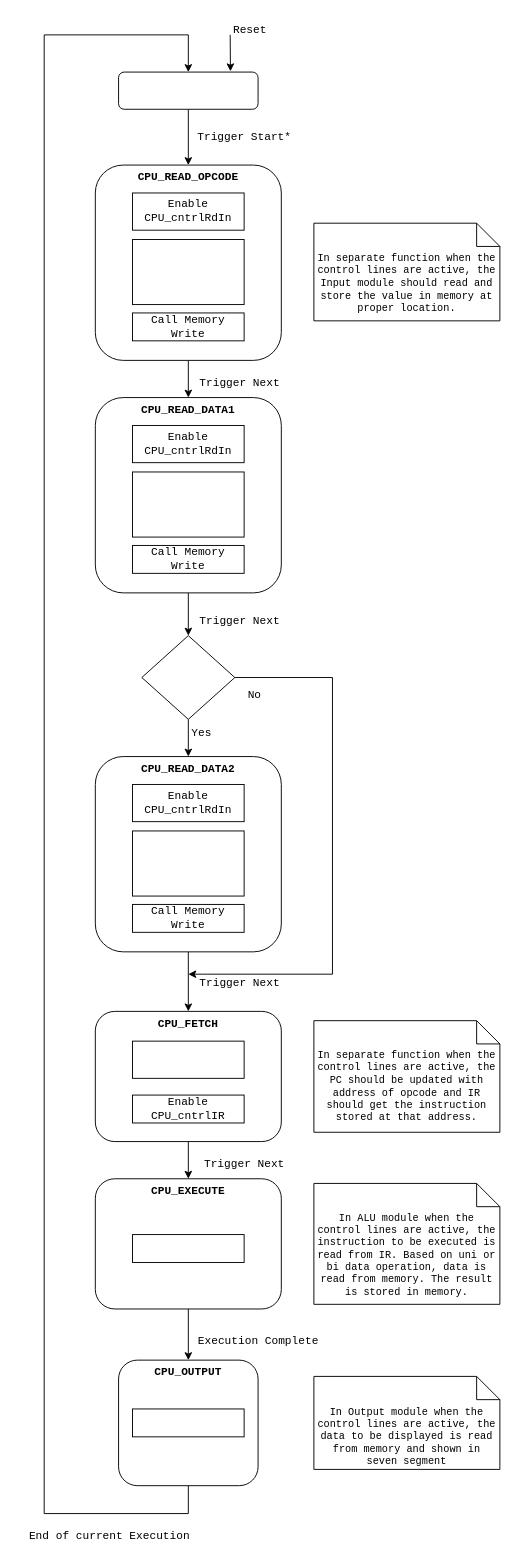
Some shapes in this 516 by 1566 pixel diagram are drawn without their labels. The shapes that lost their labels are listed below. From the top down, each one's centre as x and y in pixels, then its label:
At (x=188, y=90): "CPU_IDLE".
At (x=188, y=272): "Set MEMLAY_OPCODE as address for storing in memory".
At (x=188, y=504): "Set MEMLAY_DATA1 as address for storing in memory".
At (x=188, y=677): "Is Two Operands Required".
At (x=188, y=863): "Set MEMLAY_DATA2 as address for storing in memory".
At (x=188, y=1059): "Enable CPU_cntrlPC".
At (x=188, y=1248): "Enable CPU_cntrlALU".
At (x=188, y=1422): "Enable CPU_cntrlOut".
